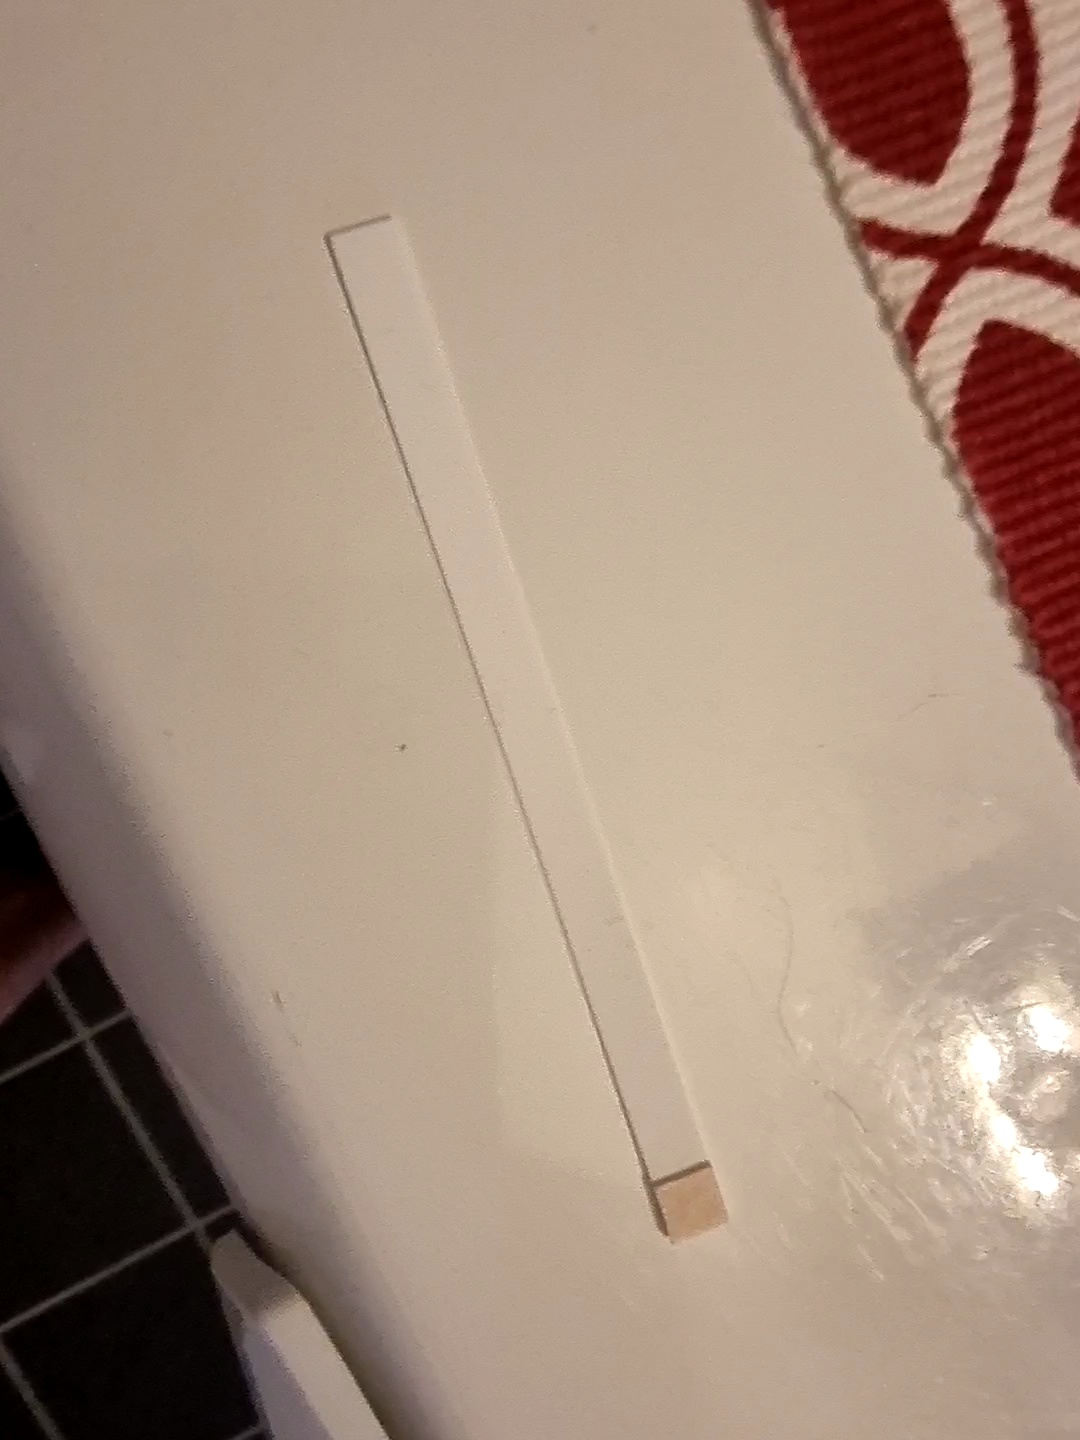keto-tip: (642, 1157, 736, 1247)
